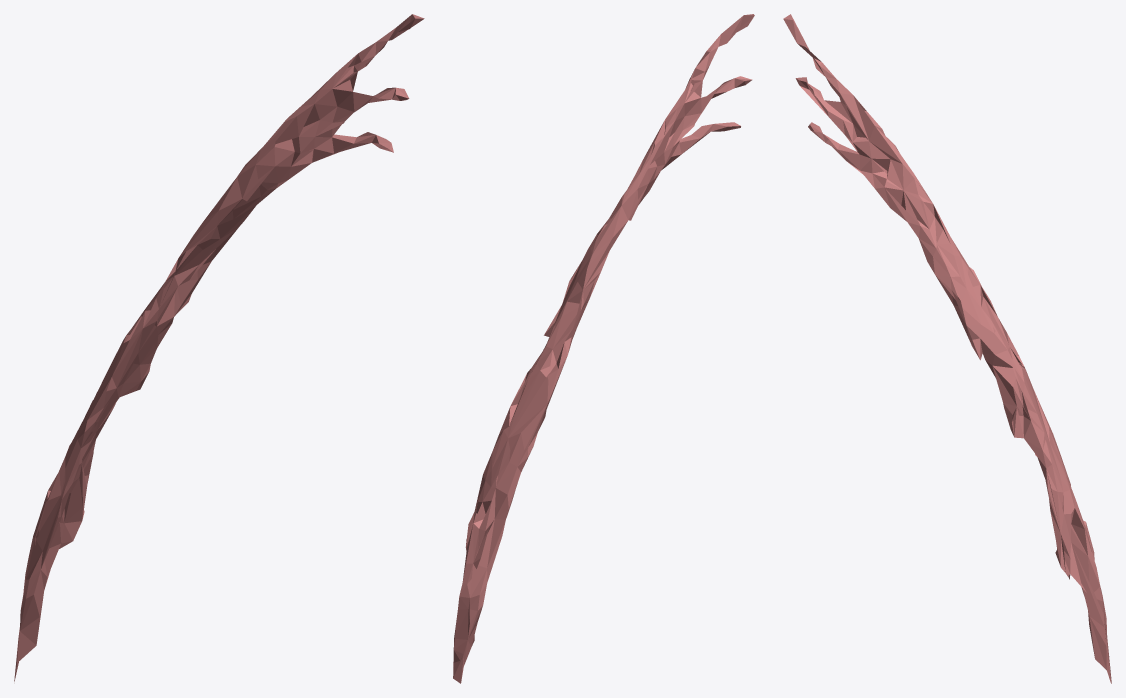
The model's file is Iliocostalis_colli_muscle.l.glb.
The picture shows the model from 3 angles, left to right: view 1: azimuth 90°, elevation 25°; view 2: azimuth 150°, elevation 25°; view 3: azimuth 270°, elevation 25°; orthographic projection. The views are drawn at different scales.
Parts seen in each view (by area): view 1: Iliocostalis_colli_muscle.l; view 2: Iliocostalis_colli_muscle.l; view 3: Iliocostalis_colli_muscle.l.
Part boxes in pixels (x1,y1,x2,y2): Iliocostalis_colli_muscle.l: (14, 14, 424, 681); Iliocostalis_colli_muscle.l: (453, 14, 754, 683); Iliocostalis_colli_muscle.l: (783, 14, 1111, 683).
Bounding box in the file's own units: 0.0484 × 0.1739 × 0.0862.
